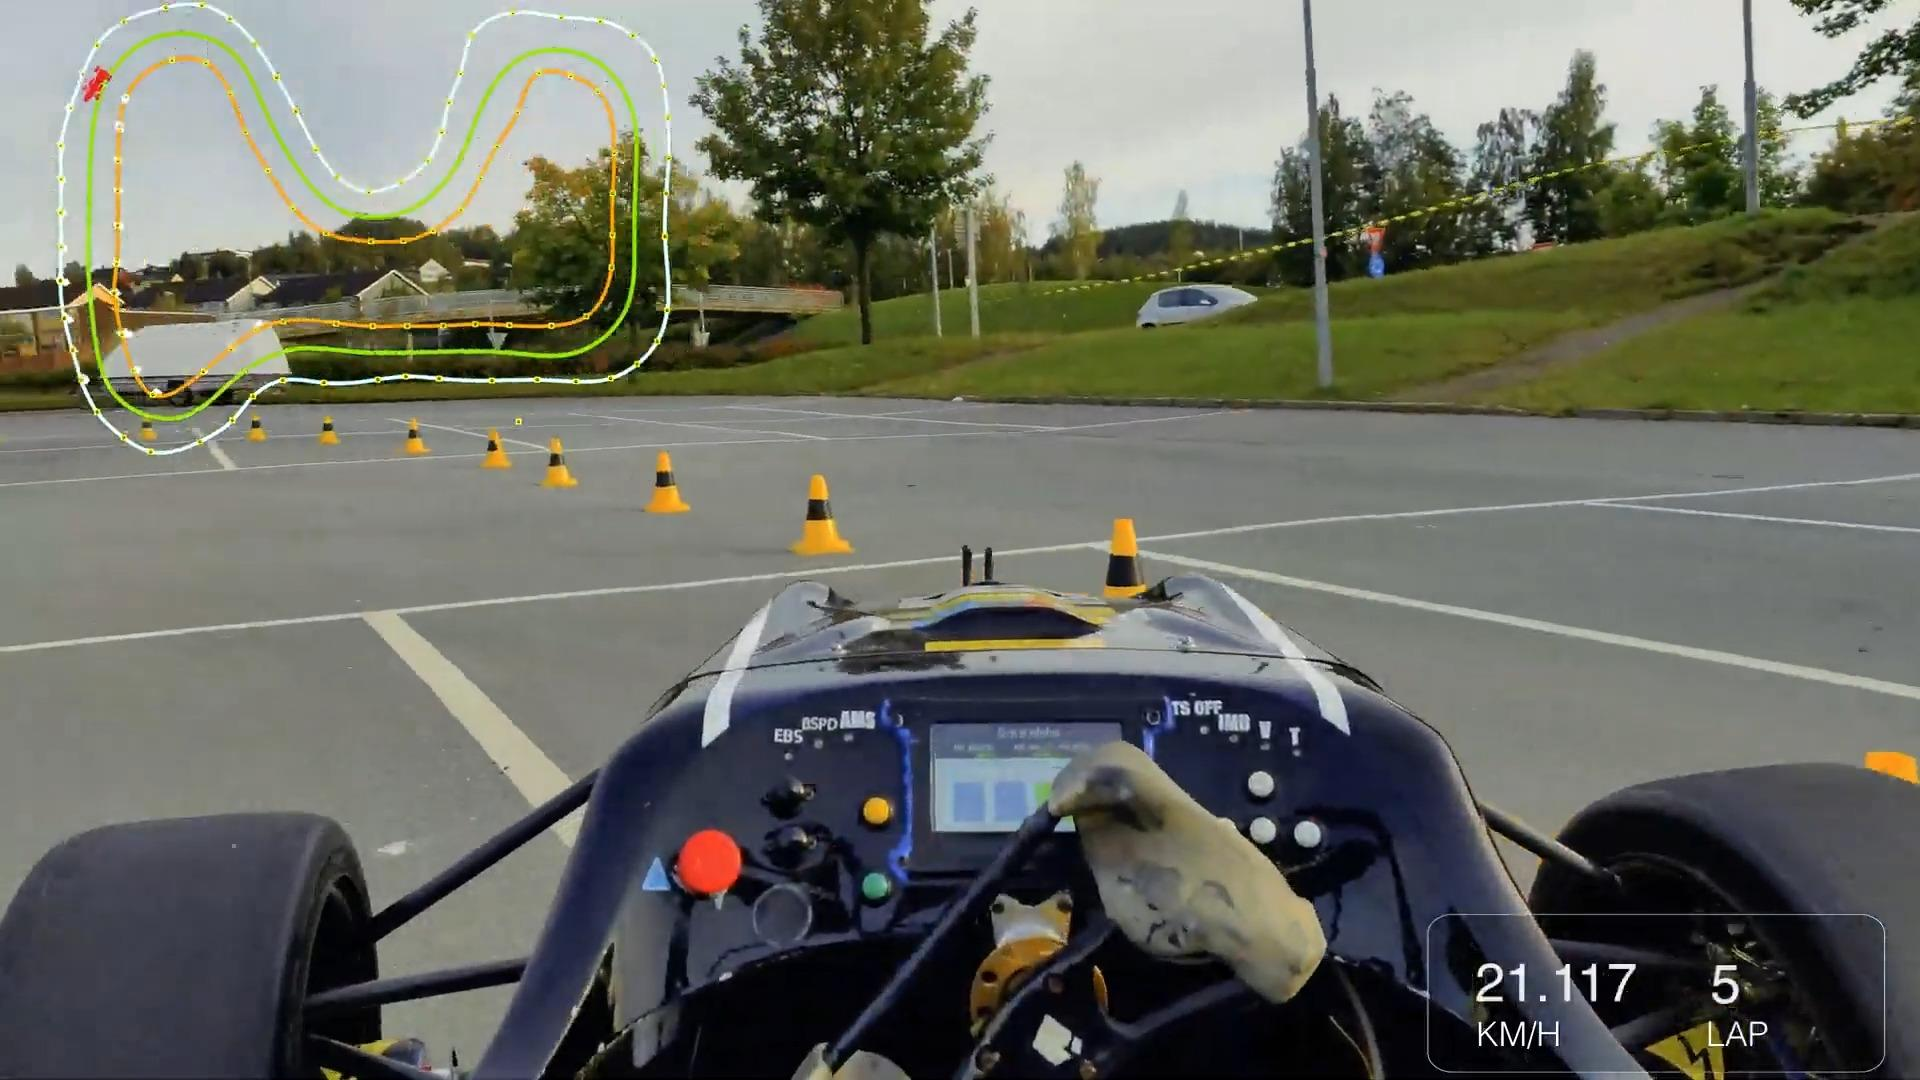yellow_cone: (779, 467, 861, 558), (632, 444, 702, 522), (1093, 509, 1146, 592), (1867, 735, 1920, 782), (538, 435, 582, 492), (398, 413, 433, 458), (480, 427, 513, 469), (244, 414, 272, 444), (315, 414, 339, 447), (138, 419, 160, 440)
